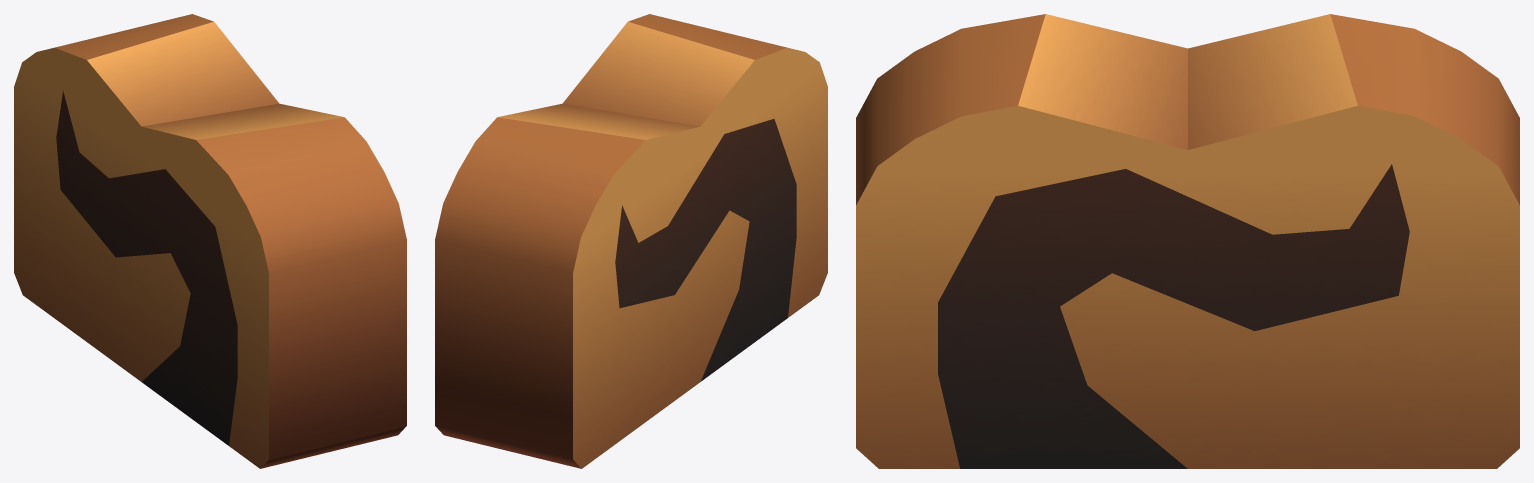
Rendered from m_LoafCake01_Slice03.fbx.
The picture shows the model from 3 angles, left to right: view 1: azimuth 30°, elevation 25°; view 2: azimuth 150°, elevation 25°; view 3: azimuth 270°, elevation 25°; orthographic projection. The views are drawn at different scales.
Parts seen in each view (by area): view 1: m_LoafCake01_Slice03; view 2: m_LoafCake01_Slice03; view 3: m_LoafCake01_Slice03.
Boxes of the visible parts, <box> form: m_LoafCake01_Slice03: <box>14,14,406,468</box>; m_LoafCake01_Slice03: <box>435,14,827,468</box>; m_LoafCake01_Slice03: <box>856,14,1519,468</box>.
Bounding box in the file's own units: 5 × 9.77 × 16.
